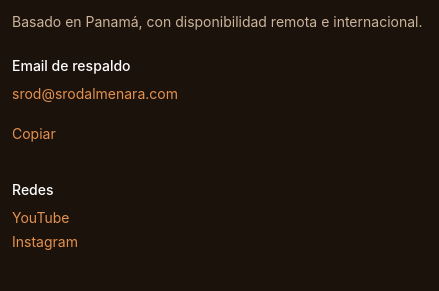
it: ContactAside › copia el email de respaldo y anuncia el resultado
This screenshot has width=439, height=291.
Click the button "Copiar" at point(34, 134), box [12,112,56,156]
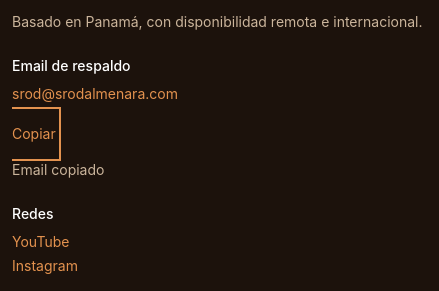
Expected: the text "Email copiado" is shown, [12,161,104,178]
